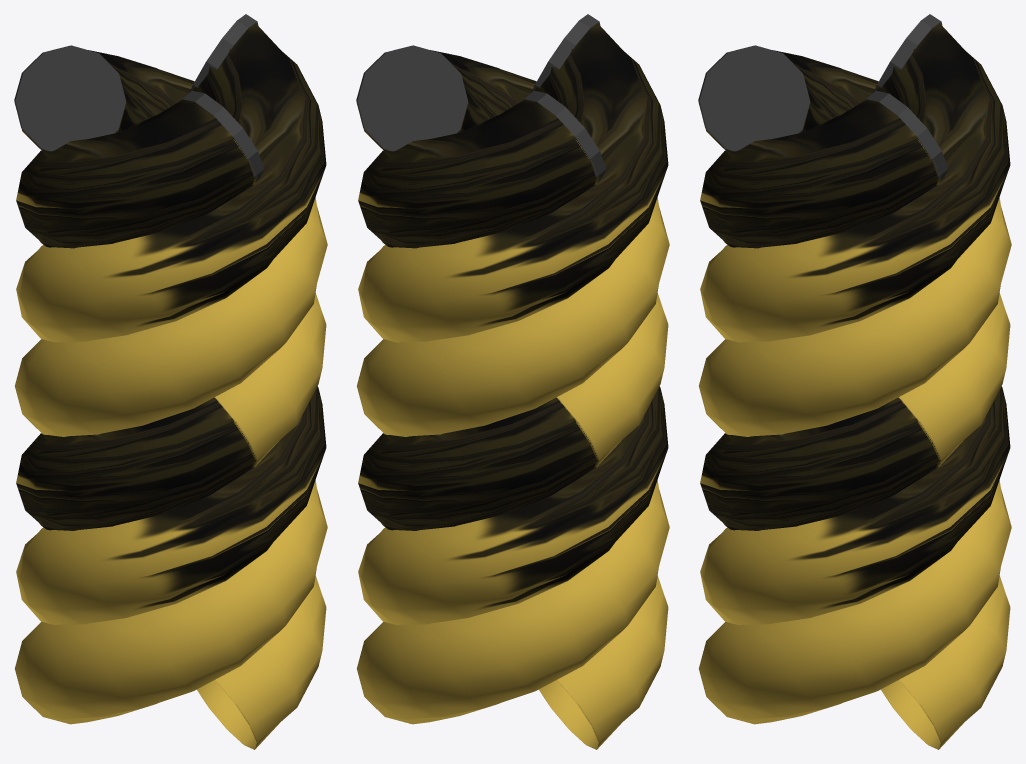
Rendered from tochedRopeModelTuriniFix1.fbx.
The picture shows the model from 3 angles, left to right: view 1: azimuth 30°, elevation 25°; view 2: azimuth 150°, elevation 25°; view 3: azimuth 270°, elevation 25°; orthographic projection.
Parts seen in each view (by area): view 1: Circle, Circle.003, Circle.002, Circle.001; view 2: Circle, Circle.001, Circle.003, Circle.002; view 3: Circle, Circle.002, Circle.001, Circle.003.
Boxes of the visible parts, x1=… form: Circle: x1=14, y1=23, x2=327, y2=749; Circle.003: x1=14, y1=45, x2=126, y2=151; Circle.002: x1=181, y1=90, x2=263, y2=181; Circle.001: x1=190, y1=14, x2=258, y2=91; Circle: x1=356, y1=23, x2=669, y2=749; Circle.001: x1=356, y1=45, x2=468, y2=151; Circle.003: x1=523, y1=90, x2=605, y2=181; Circle.002: x1=532, y1=14, x2=600, y2=91; Circle: x1=698, y1=23, x2=1011, y2=749; Circle.002: x1=698, y1=45, x2=810, y2=151; Circle.001: x1=865, y1=90, x2=947, y2=181; Circle.003: x1=874, y1=14, x2=942, y2=91.
Size of the model in its own units: 562 by 1308 by 563.
2 materials, 1 textured.
